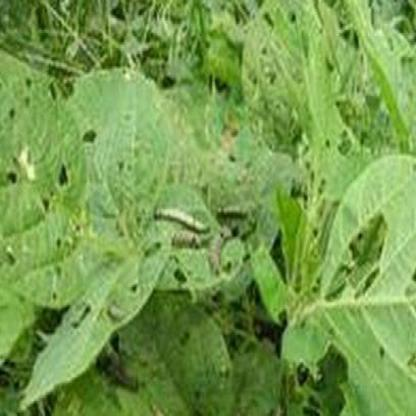armyworm: (151, 197, 210, 245), (216, 201, 251, 224)
